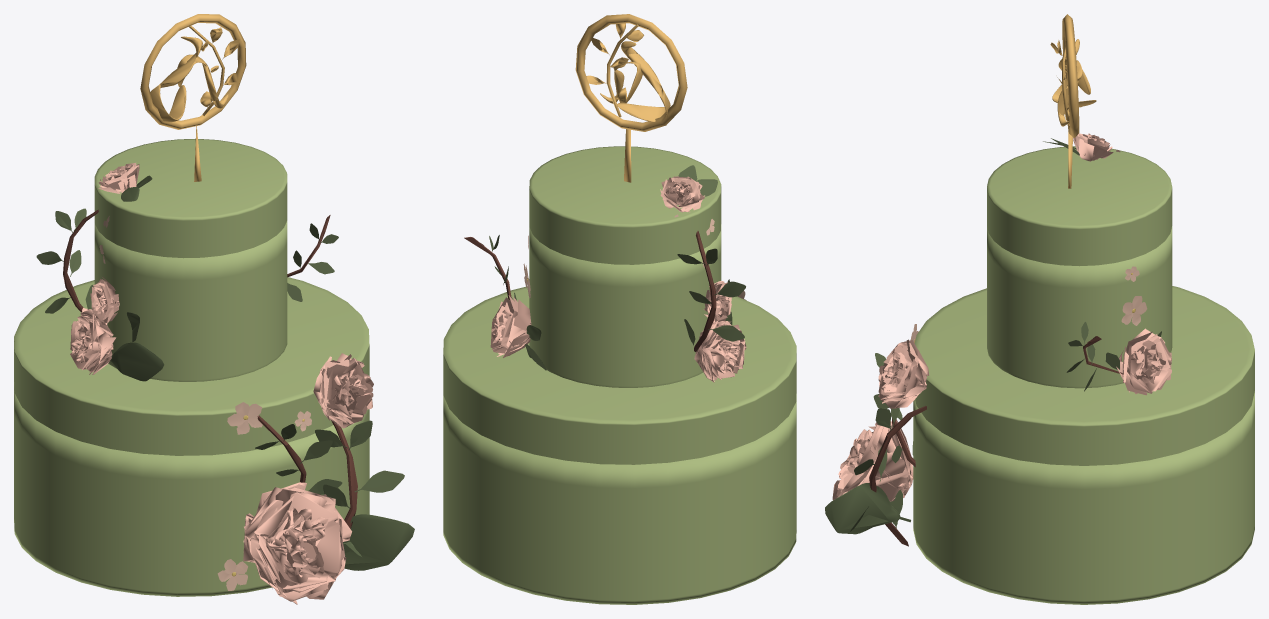
File: 2-tier-pistage-roses-ring.glb
3 views of the same model, side by side, from view 1: azimuth 30°, elevation 25°; view 2: azimuth 150°, elevation 25°; view 3: azimuth 270°, elevation 25° (orthographic).
Visible parts, largest first — view 1: Cylinder.023, Cylinder.013, grid.025, Cylinder.011, grid.024, Plane.049, Plane.059, grid.026, Plane.056, Plane.058, Plane.052, Plane.045 (+4 smaller); view 2: Cylinder.023, Cylinder.013, Cylinder.011, grid.026, Plane.056, grid.028, grid.014, grid.027, Plane.045; view 3: Cylinder.023, Cylinder.013, grid.025, Cylinder.011, grid.028, Plane.049, grid.024, Plane.059, Plane.045, grid.014, Plane.058.
Boxes of the visible parts, x1,y1,x2,y2 form: Cylinder.023: (14,277,369,596); Cylinder.013: (94,139,287,381); grid.025: (243,482,352,604); Cylinder.011: (140,14,246,181); grid.024: (313,353,373,428); Plane.049: (343,514,414,570); Plane.059: (315,420,404,556); grid.026: (70,307,116,374); Plane.056: (36,208,98,313); Plane.058: (255,415,342,494); Plane.052: (110,342,164,381); Plane.045: (287,215,338,301); Cylinder.023: (443,286,796,604); Cylinder.013: (529,146,721,387); Cylinder.011: (575,14,687,182); grid.026: (694,321,746,382); Plane.056: (677,231,745,351); grid.028: (490,295,531,357); grid.014: (660,176,704,212); grid.027: (703,281,732,326); Plane.045: (464,235,516,300); Cylinder.023: (913,286,1254,604); Cylinder.013: (987,146,1172,388); grid.025: (832,419,913,501); Cylinder.011: (1050,14,1096,188); grid.028: (1116,328,1171,395); Plane.049: (825,483,910,534); grid.024: (878,339,929,408); Plane.059: (850,406,926,546); Plane.045: (1066,322,1123,391); grid.014: (1073,133,1113,161); Plane.058: (873,353,915,467).
Size of the model in its own units: 3.4 by 5.49 by 4.11.
